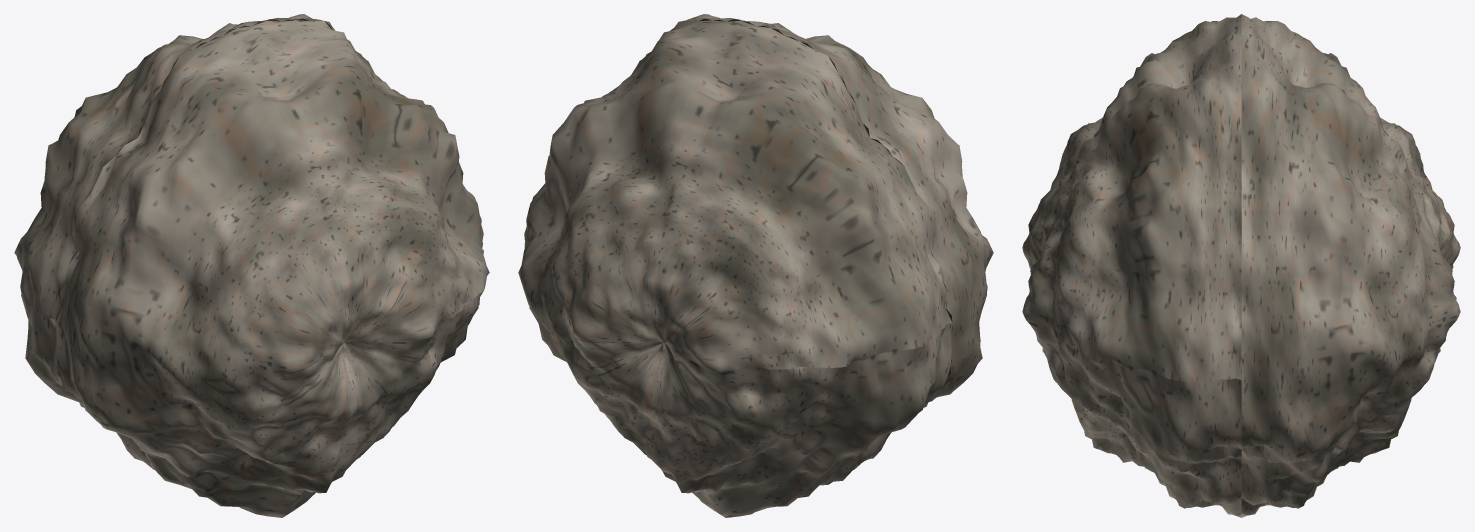
File: white-calcite-study-v2.glb
3 renders of one model, left to right at view 1: azimuth 30°, elevation 25°; view 2: azimuth 150°, elevation 25°; view 3: azimuth 270°, elevation 25°, orthographic.
Visible parts, largest first — view 1: Closed_front, Closed_back; view 2: Closed_back, Closed_front; view 3: Closed_front, Closed_back.
Part boxes in pixels (<box>): Closed_front: <box>55,20,489,517</box>; Closed_back: <box>14,14,383,469</box>; Closed_back: <box>518,20,952,517</box>; Closed_front: <box>613,14,993,469</box>; Closed_front: <box>1022,14,1241,517</box>; Closed_back: <box>1241,14,1460,517</box>.
Bounding box in the file's own units: 3.02 × 3.48 × 2.86.
8 materials, 3 textured.
